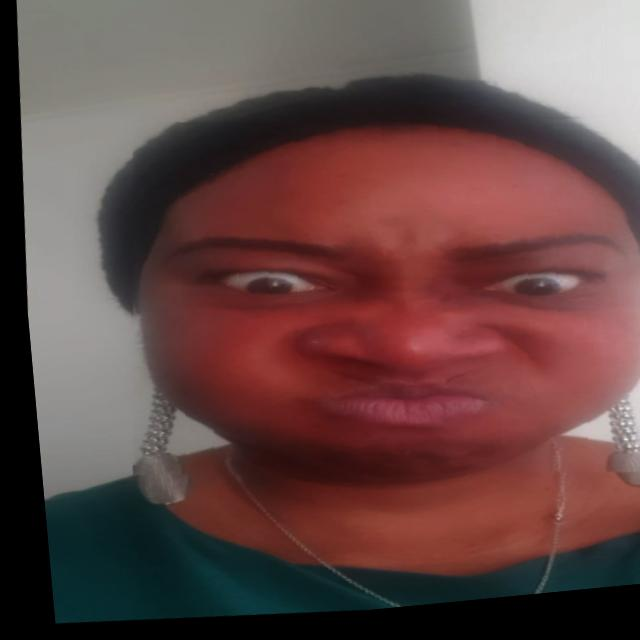sad: (102, 90, 640, 520)
